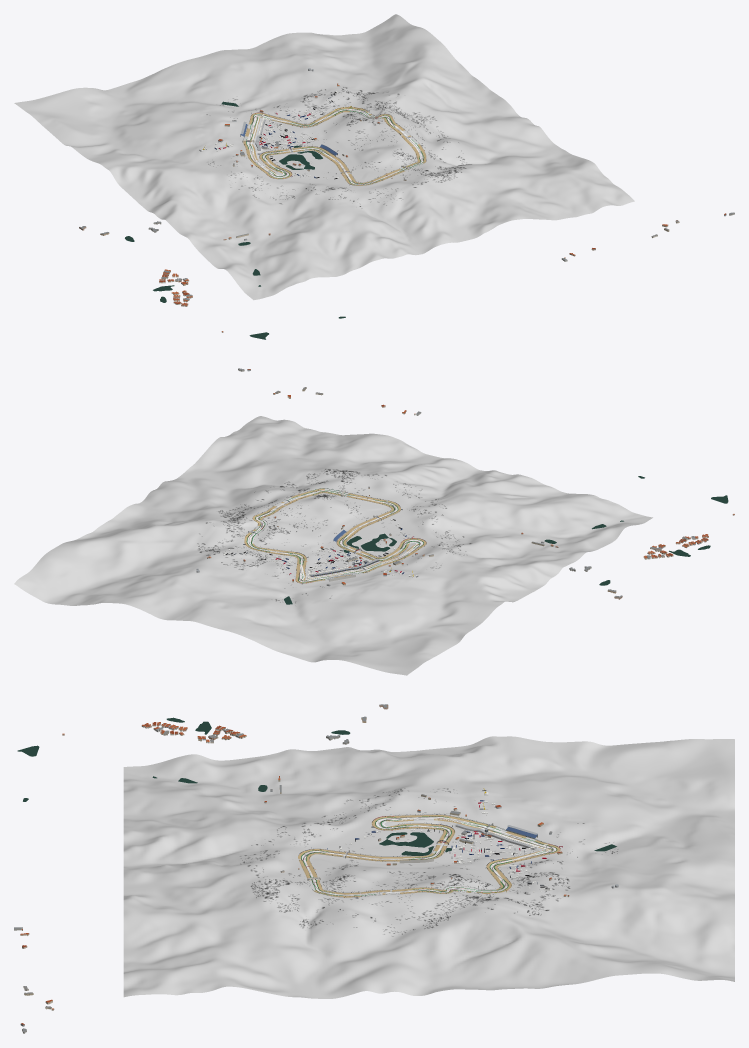
File: cenario.glb
3 views of the same model, one above another, from view 1: azimuth 30°, elevation 25°; view 2: azimuth 150°, elevation 25°; view 3: azimuth 270°, elevation 25° (orthographic). The views are drawn at different scales.
Visible parts, largest first — view 1: o0_s0 (×5); view 2: o0_s0 (×5); view 3: o0_s0 (×6).
Boxes of the visible parts, x1=… form: o0_s0 (×5): x1=14, y1=14, x2=734, y2=332; o0_s0 (×5): x1=14, y1=368, x2=734, y2=675; o0_s0 (×6): x1=14, y1=704, x2=734, y2=1033.
Size of what is drawn, in the model's own units: 2972 by 182 by 2816.
Materials: 87 (45 with a texture image).
